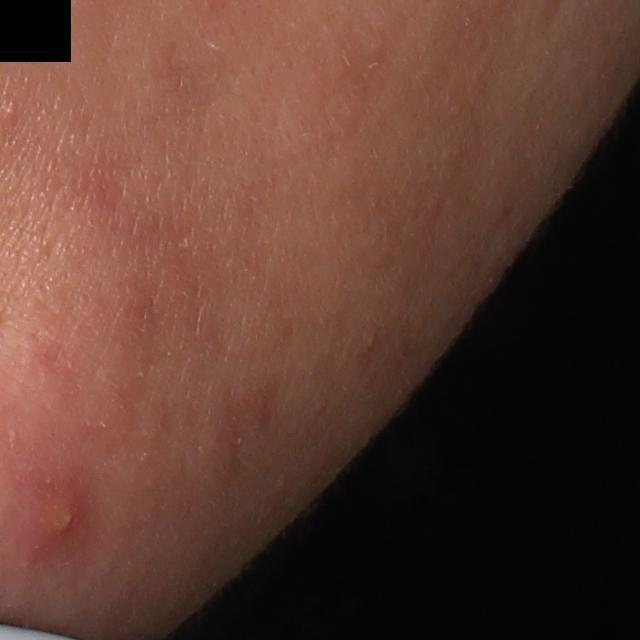comedo: (1, 100, 17, 121)
